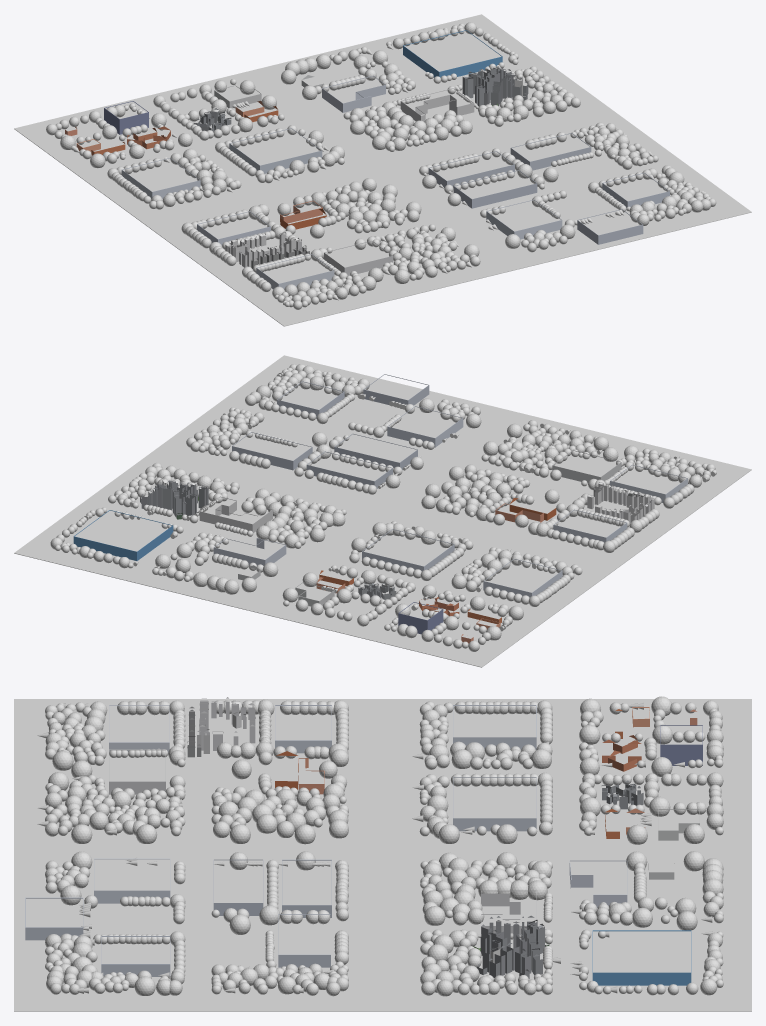
The model's file is scene_test-job-api.glb.
The picture shows the model from 3 angles, top to bottom: view 1: azimuth 30°, elevation 25°; view 2: azimuth 150°, elevation 25°; view 3: azimuth 270°, elevation 25°; orthographic projection. The views are drawn at different scales.
Visible parts, largest first — view 1: Ground_Base, BLD-001, BLD-013, BLD-006, BLD-014, BLD-002, BLD-010, BLD-003, BLD-012, BLD-011, BLD-009, BLD-005 (+3 smaller); view 2: Ground_Base, BLD-001, BLD-013, BLD-003, BLD-012, BLD-014, BLD-002, BLD-006, BLD-009, BLD-010, BLD-015, BLD-011 (+3 smaller); view 3: Ground_Base, BLD-001, BLD-002, BLD-003, BLD-013, BLD-015, BLD-005, BLD-014, BLD-008, BLD-010, BLD-012, BLD-011 (+4 smaller).
Boxes of the visible parts, x1=… form: Ground_Base: x1=14, y1=14, x2=751, y2=326; BLD-001: x1=403, y1=30, x2=502, y2=77; BLD-013: x1=400, y1=88, x2=474, y2=121; BLD-006: x1=453, y1=170, x2=537, y2=208; BLD-014: x1=322, y1=75, x2=385, y2=112; BLD-002: x1=229, y1=128, x2=322, y2=173; BLD-010: x1=577, y1=209, x2=643, y2=244; BLD-003: x1=486, y1=199, x2=562, y2=239; BLD-012: x1=510, y1=133, x2=591, y2=170; BLD-011: x1=324, y1=240, x2=393, y2=275; BLD-009: x1=428, y1=151, x2=514, y2=187; BLD-005: x1=121, y1=158, x2=200, y2=198; Ground_Base: x1=14, y1=355, x2=751, y2=667; BLD-001: x1=73, y1=510, x2=173, y2=560; BLD-013: x1=199, y1=496, x2=272, y2=532; BLD-003: x1=387, y1=406, x2=463, y2=447; BLD-012: x1=232, y1=432, x2=312, y2=470; BLD-014: x1=213, y1=538, x2=286, y2=565; BLD-002: x1=362, y1=529, x2=454, y2=571; BLD-006: x1=334, y1=433, x2=417, y2=469; BLD-009: x1=306, y1=451, x2=392, y2=488; BLD-010: x1=363, y1=374, x2=429, y2=405; BLD-015: x1=398, y1=602, x2=443, y2=634; BLD-011: x1=552, y1=450, x2=621, y2=483; Ground_Base: x1=14, y1=699, x2=751, y2=1011; BLD-001: x1=592, y1=930, x2=691, y2=985; BLD-002: x1=453, y1=777, x2=536, y2=831; BLD-003: x1=94, y1=858, x2=170, y2=903; BLD-013: x1=481, y1=890, x2=536, y2=938; BLD-015: x1=660, y1=725, x2=702, y2=765; BLD-005: x1=453, y1=705, x2=536, y2=749; BLD-014: x1=569, y1=860, x2=627, y2=907; BLD-008: x1=101, y1=936, x2=170, y2=976; BLD-010: x1=25, y1=897, x2=83, y2=940; BLD-012: x1=278, y1=914, x2=330, y2=967; BLD-011: x1=109, y1=749, x2=165, y2=794.
Size of the model in its own units: 410 by 22.96 by 410.
